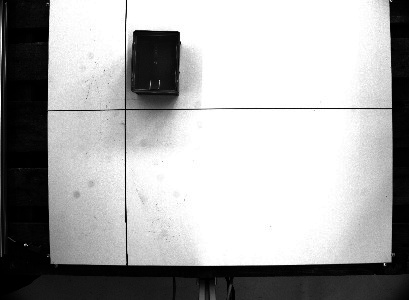klts: (129, 27, 182, 97)
